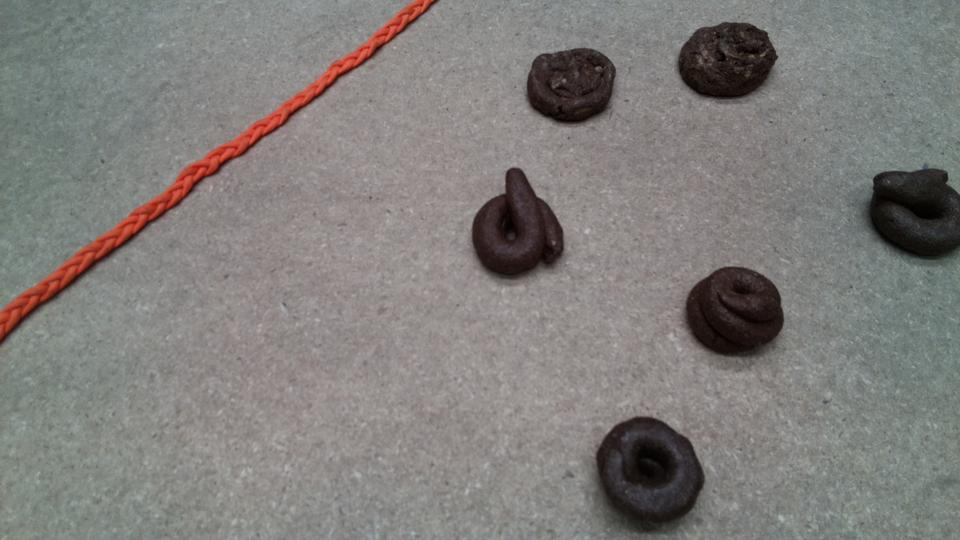poop: (592, 412, 710, 528), (468, 164, 570, 281), (683, 264, 786, 358), (866, 165, 960, 263), (676, 20, 782, 102), (523, 44, 618, 128)
rope: (1, 1, 418, 331)
